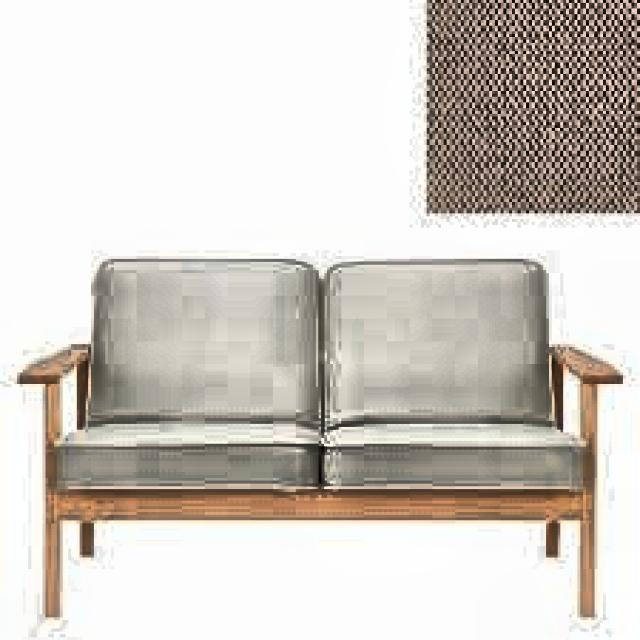sofa: (17, 247, 612, 623)
